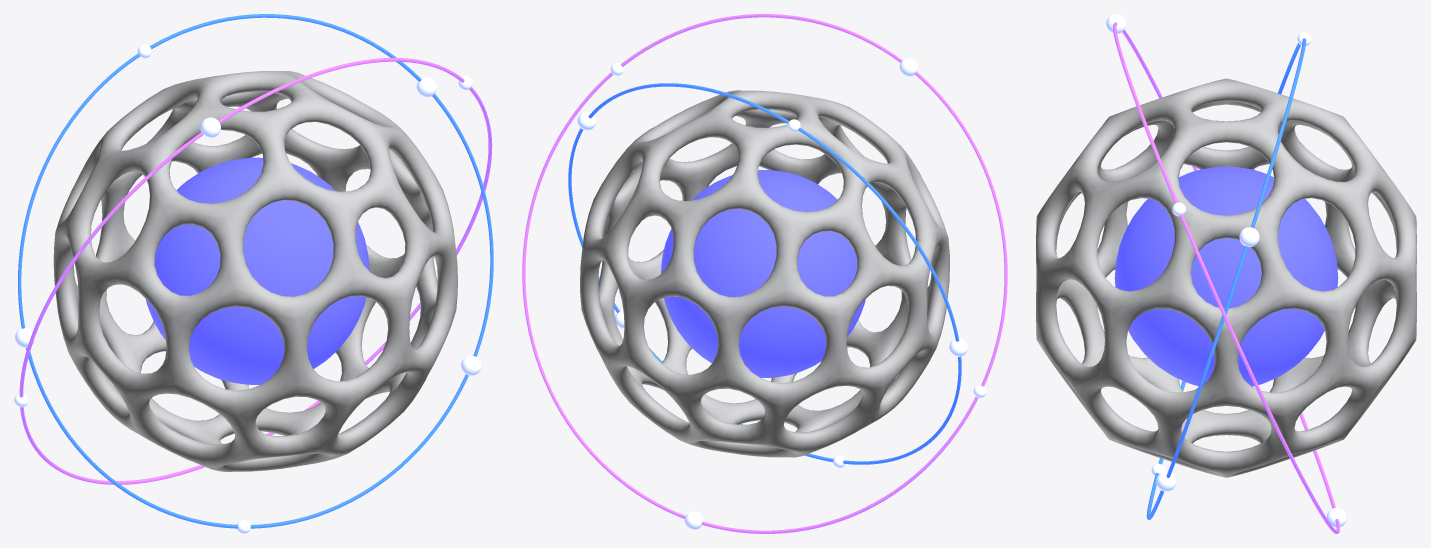
Rendered from core.glb.
3 views of the same model, side by side, from view 1: azimuth 30°, elevation 25°; view 2: azimuth 150°, elevation 25°; view 3: azimuth 270°, elevation 25° (orthographic). The views are drawn at different scales.
Visible parts, largest first — view 1: Lattice, Core, RingA, RingB; view 2: Lattice, Core, RingB, RingA; view 3: Lattice, Core, RingB, RingA.
Boxes of the visible parts, box(x1,y1,x2,y2) form: Lattice: box(53, 71, 457, 471); Core: box(146, 157, 369, 384); RingA: box(18, 14, 493, 528); RingB: box(19, 58, 492, 484); Lattice: box(580, 90, 949, 457); Core: box(661, 170, 865, 377); RingB: box(522, 14, 1007, 533); RingA: box(568, 83, 961, 464); Lattice: box(1036, 78, 1416, 477); Core: box(1114, 166, 1338, 386); RingB: box(1113, 22, 1339, 533); RingA: box(1146, 38, 1306, 519).
Size of the model in its own units: 3.56 by 3.34 by 2.45.
